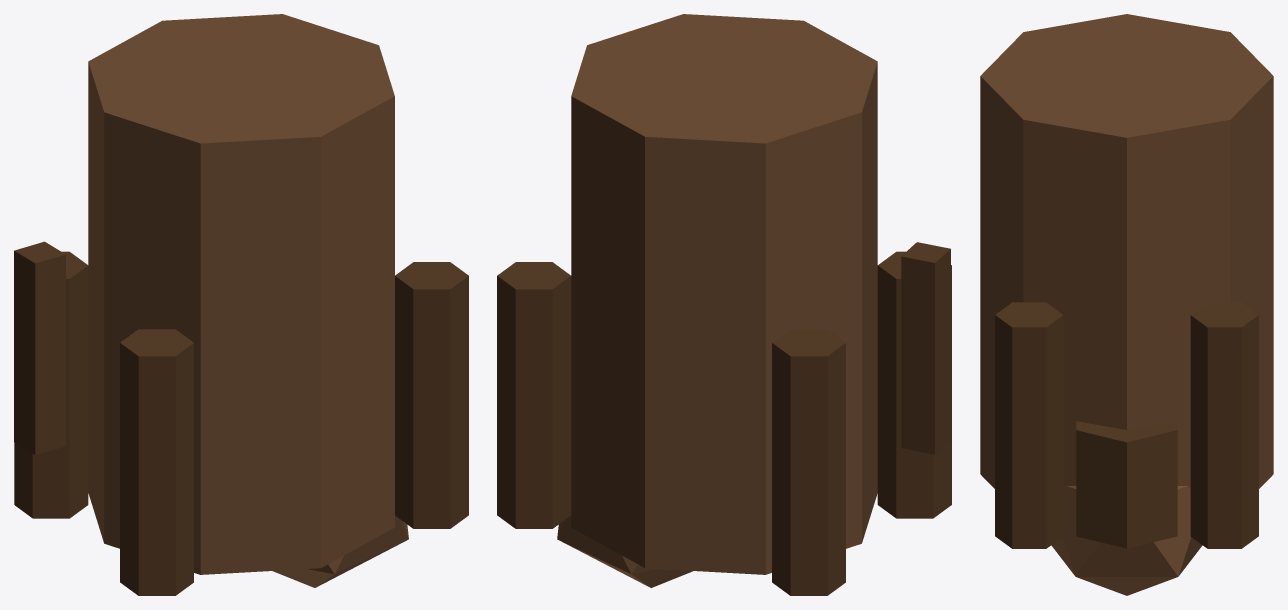
The model's file is fauna.dog.glb.
The picture shows the model from 3 angles, left to right: view 1: azimuth 30°, elevation 25°; view 2: azimuth 150°, elevation 25°; view 3: azimuth 270°, elevation 25°; orthographic projection. The views are drawn at different scales.
Visible parts, largest first — view 1: fauna.dog; view 2: fauna.dog; view 3: fauna.dog.
Part boxes in pixels (bbox=[...]): fauna.dog: bbox=[14, 14, 468, 595]; fauna.dog: bbox=[497, 14, 951, 595]; fauna.dog: bbox=[980, 14, 1273, 595].
Bounding box in the file's own units: 0.4195 × 0.55 × 0.3.
